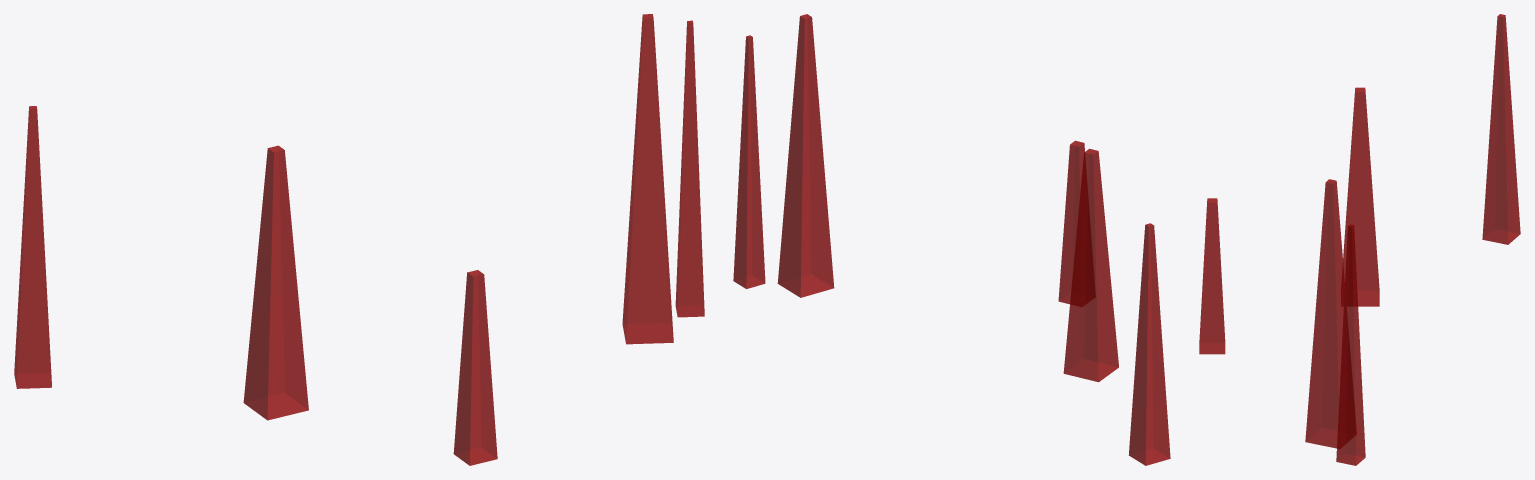
Rendered from SM_Env_Swamp_Tree_Root_Preset_02_Collision.fbx.
The picture shows the model from 3 angles, left to right: view 1: azimuth 30°, elevation 25°; view 2: azimuth 150°, elevation 25°; view 3: azimuth 270°, elevation 25°; orthographic projection. The views are drawn at different scales.
Parts seen in each view (by area): view 1: SM_Env_Swamp_Tree_Root_Preset_02_Collision; view 2: SM_Env_Swamp_Tree_Root_Preset_02_Collision; view 3: SM_Env_Swamp_Tree_Root_Preset_02_Collision.
Part boxes in pixels (box(x1,y1,x2,y2)): SM_Env_Swamp_Tree_Root_Preset_02_Collision: box(14, 14, 704, 465); SM_Env_Swamp_Tree_Root_Preset_02_Collision: box(733, 14, 1170, 465); SM_Env_Swamp_Tree_Root_Preset_02_Collision: box(1199, 14, 1520, 465).
Bounding box in the file's own units: 742 × 386 × 425.
